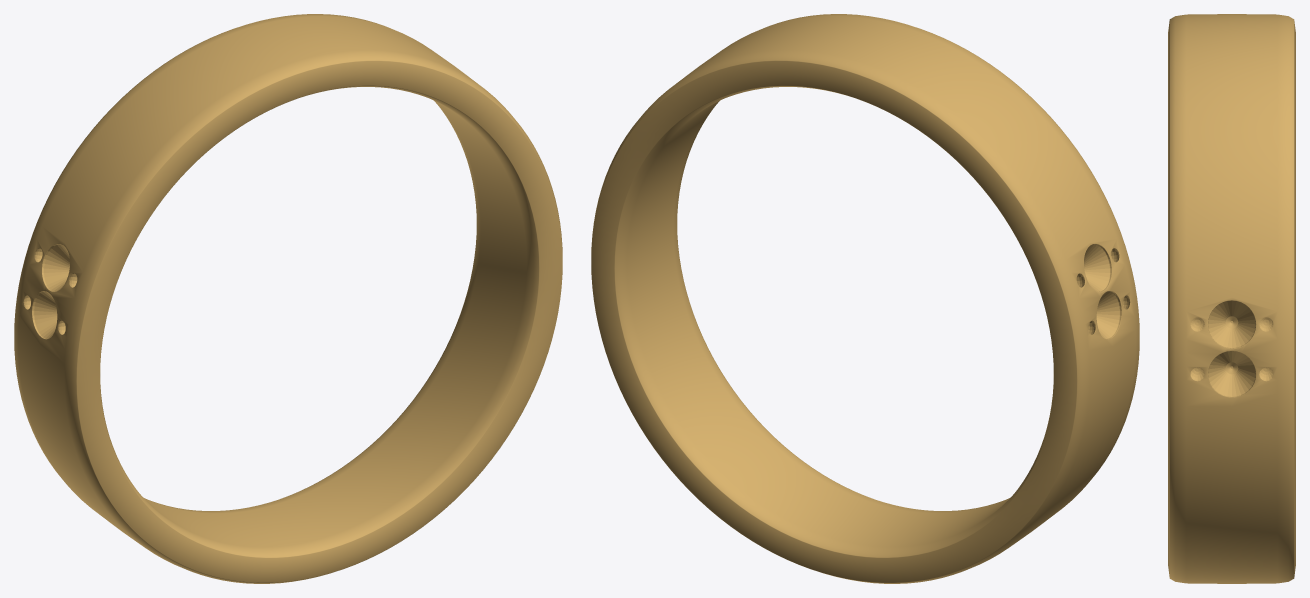
The model's file is wide-scalloped-u-cut-multi.glb.
The picture shows the model from 3 angles, left to right: view 1: azimuth 30°, elevation 25°; view 2: azimuth 150°, elevation 25°; view 3: azimuth 270°, elevation 25°; orthographic projection.
Visible parts, largest first — view 1: Band; view 2: Band; view 3: Band.
Part boxes in pixels (left/top/right/bottom): Band: left=14, top=14, right=562, bottom=583; Band: left=591, top=14, right=1139, bottom=583; Band: left=1168, top=14, right=1295, bottom=583.
Bounding box in the file's own units: 19.6 × 19.6 × 4.4.
